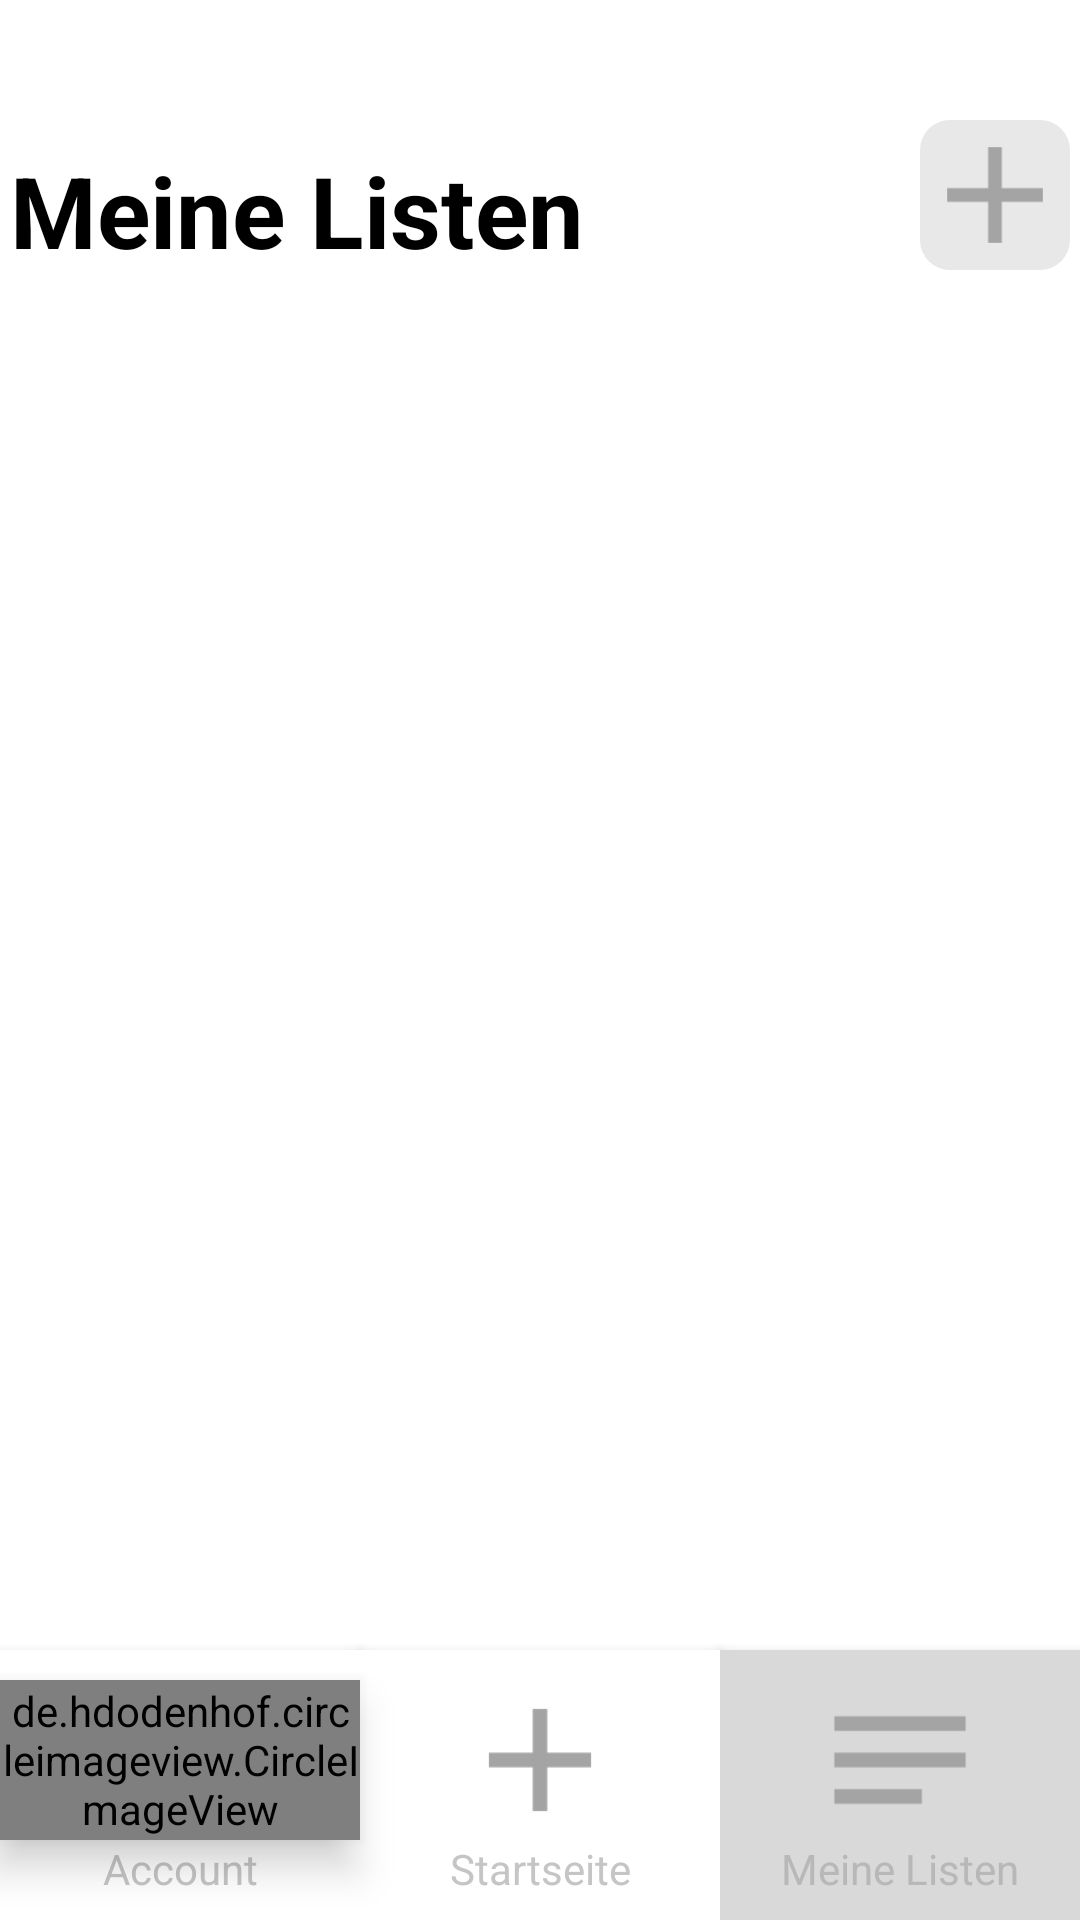

Named icons in this screenshot (1080w x 1920h) and their centers, (x=x, y=y):
add: (x=995, y=195), (x=540, y=1760)
